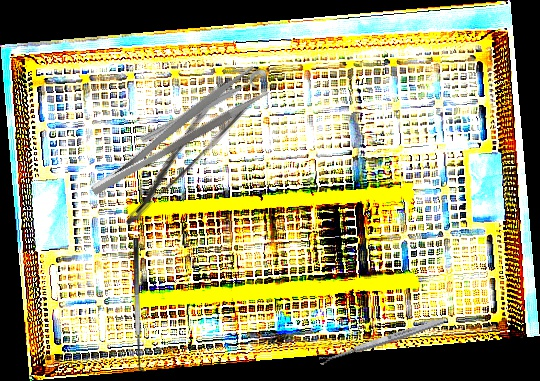Dressing Forceps: (78, 63, 272, 201), (102, 75, 256, 230)
Fixation Ring: (137, 67, 274, 154)
Spatula Surgical: (132, 238, 150, 372)
Surgical Spoon: (318, 316, 445, 366)
